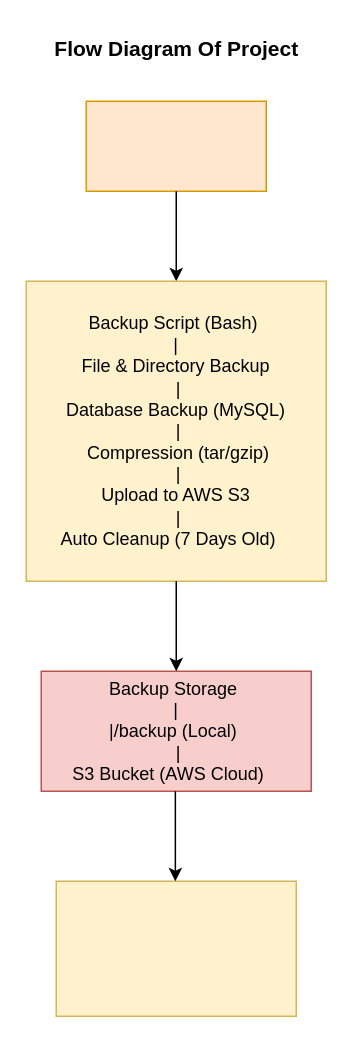
Image size: 353x1050. Some labels were removed from this diagram. The shapes that lost their labels are listed below. From the top down, each one's centre as x and y in pixels, then its label:
At (175,145): "Linux Server | (Ubuntu, CentOS, RHEL".
At (175,948): "Logging & Email Alerts | Logs in /var/ log /backup. log | Email notifications".
